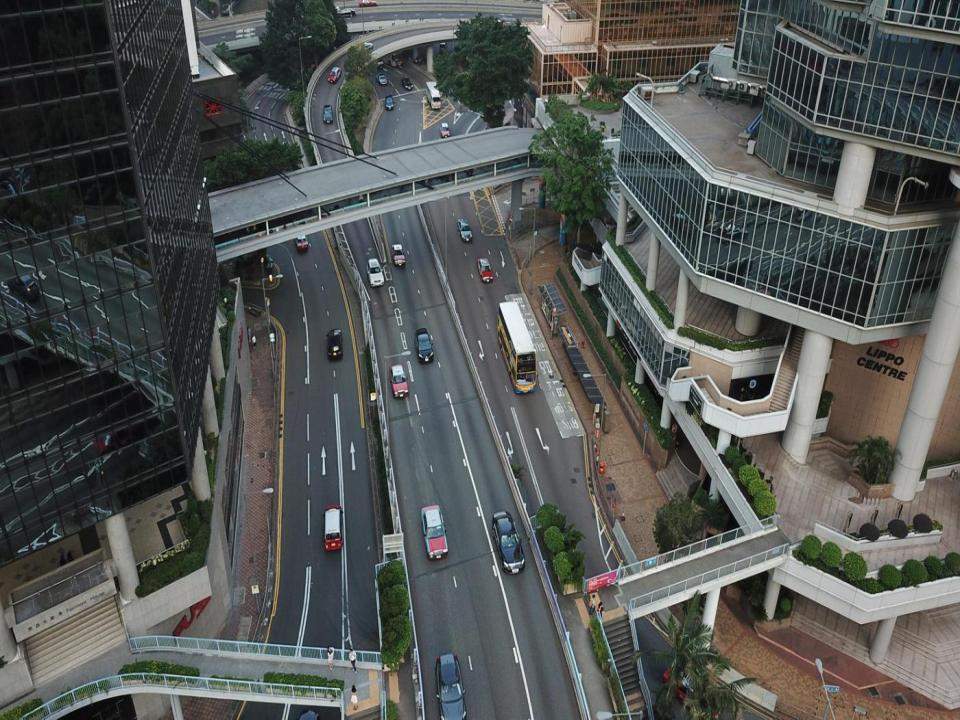bus: (496, 300, 538, 393), (374, 42, 403, 67)
car: (663, 661, 721, 719), (435, 652, 467, 719), (492, 511, 524, 574), (420, 505, 448, 560), (324, 504, 344, 550), (415, 328, 433, 364), (390, 363, 408, 399), (326, 328, 343, 359), (367, 258, 385, 286), (478, 257, 493, 282), (457, 218, 472, 242), (391, 241, 404, 268), (294, 229, 308, 250), (327, 67, 342, 83), (335, 8, 355, 18), (323, 104, 333, 124), (441, 122, 450, 139), (358, 41, 373, 51), (385, 94, 394, 110), (401, 76, 413, 88), (358, 0, 376, 7), (376, 73, 387, 84), (440, 43, 447, 53), (375, 58, 383, 66)
truck: (425, 80, 440, 109)
